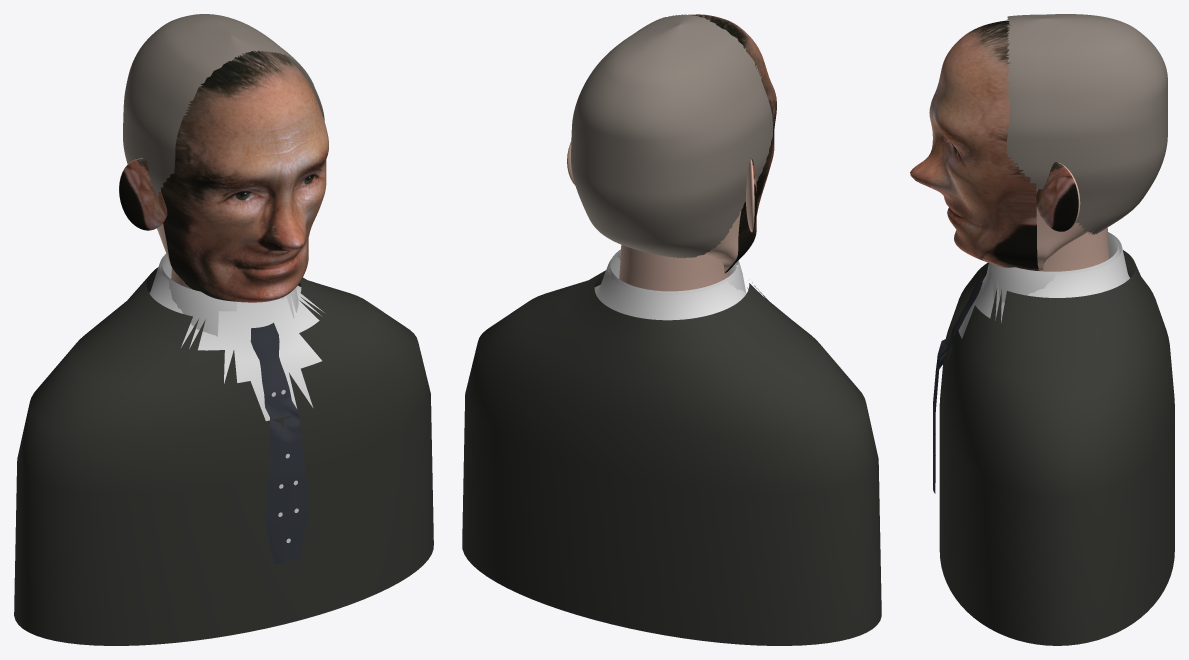
The model's file is douglas_home_face.glb.
3 views of the same model, side by side, from view 1: azimuth 30°, elevation 25°; view 2: azimuth 150°, elevation 25°; view 3: azimuth 270°, elevation 25° (orthographic). The views are drawn at different scales.
Parts seen in each view (by area): view 1: Alec_Douglas-Home_bust; view 2: Alec_Douglas-Home_bust; view 3: Alec_Douglas-Home_bust.
Part boxes in pixels (<box>): Alec_Douglas-Home_bust: <box>14,14,433,645</box>; Alec_Douglas-Home_bust: <box>462,14,881,645</box>; Alec_Douglas-Home_bust: <box>910,14,1174,645</box>.
Size of the model in its own units: 0.39 by 0.5095 by 0.2297.
7 materials, 1 textured.
